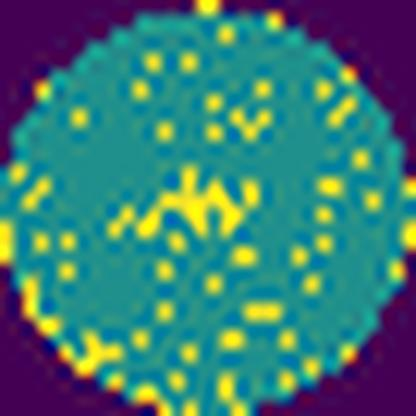Center: (106, 160, 266, 245)
